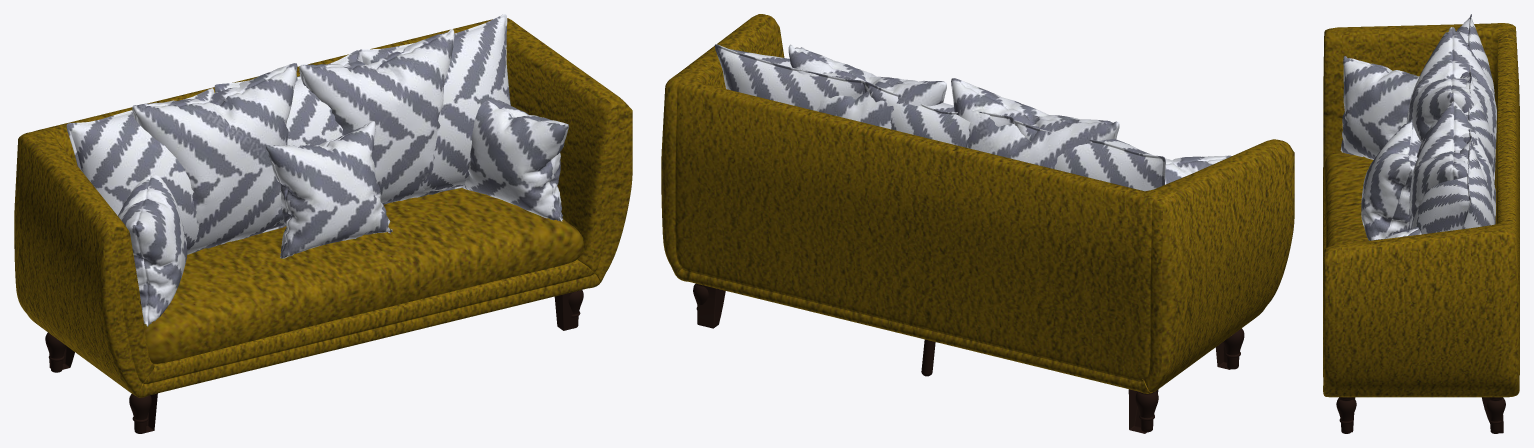
3 renders of one model, left to right at view 1: azimuth 30°, elevation 25°; view 2: azimuth 150°, elevation 25°; view 3: azimuth 270°, elevation 25°, orthographic. The views are drawn at different scales.
Visible parts, largest first — view 1: pillow_02_geo, couch, seat, pillow_01_geo, Legs_02_geo, Legs_01_geo; view 2: couch, pillow_02_geo, pillow_01_geo, Legs_01_geo, Legs_02_geo; view 3: couch, pillow_02_geo, pillow_01_geo, seat, Legs_02_geo, Legs_01_geo.
Boxes of the visible parts, x1,y1,x2,y2 form: pillow_02_geo: [118, 29, 568, 326]; couch: [14, 18, 632, 397]; seat: [144, 188, 583, 363]; pillow_01_geo: [66, 14, 510, 250]; Legs_02_geo: [45, 290, 583, 433]; Legs_01_geo: [49, 290, 578, 432]; couch: [661, 14, 1294, 393]; pillow_02_geo: [788, 44, 1231, 184]; pillow_01_geo: [714, 44, 1165, 191]; Legs_01_geo: [697, 284, 1230, 433]; Legs_02_geo: [693, 283, 1244, 432]; couch: [1323, 23, 1519, 397]; pillow_02_geo: [1340, 27, 1496, 240]; pillow_01_geo: [1411, 14, 1494, 234]; seat: [1324, 152, 1373, 247]; Legs_02_geo: [1336, 397, 1505, 433]; Legs_01_geo: [1339, 397, 1503, 433].
Size of the model in its own units: 2.09 by 1.03 by 0.7535.
Materials: 4 (3 with a texture image).
